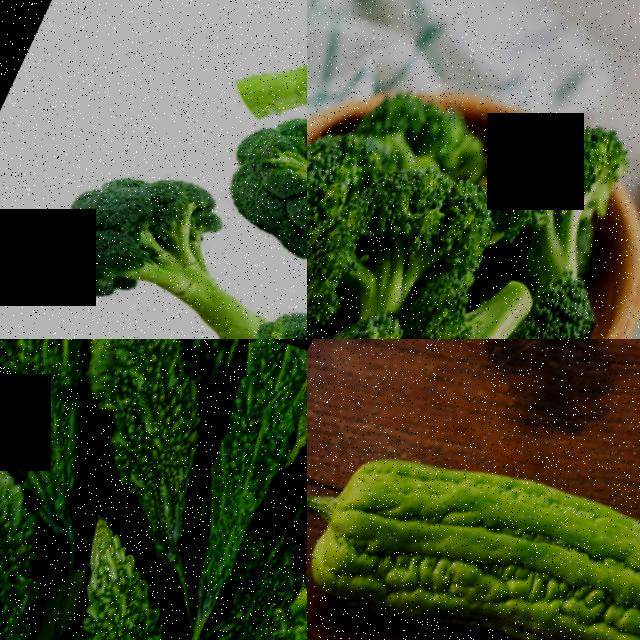bitter gourd: (307, 376, 640, 640), (183, 344, 307, 581), (74, 339, 242, 513), (13, 535, 222, 640), (178, 509, 307, 640), (0, 500, 96, 640), (0, 339, 105, 443)
broccoli: (10, 139, 239, 339), (310, 146, 491, 339), (509, 103, 640, 286), (174, 0, 307, 159), (215, 95, 307, 307), (397, 268, 551, 339), (307, 105, 375, 238)
